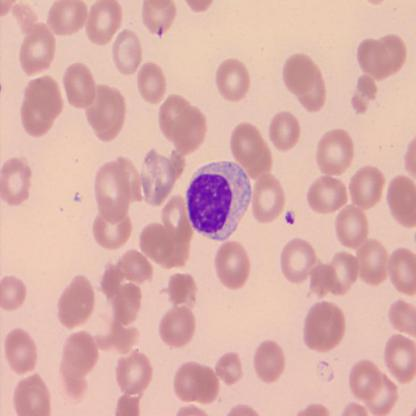Myelocyte: (187, 161, 249, 240)
